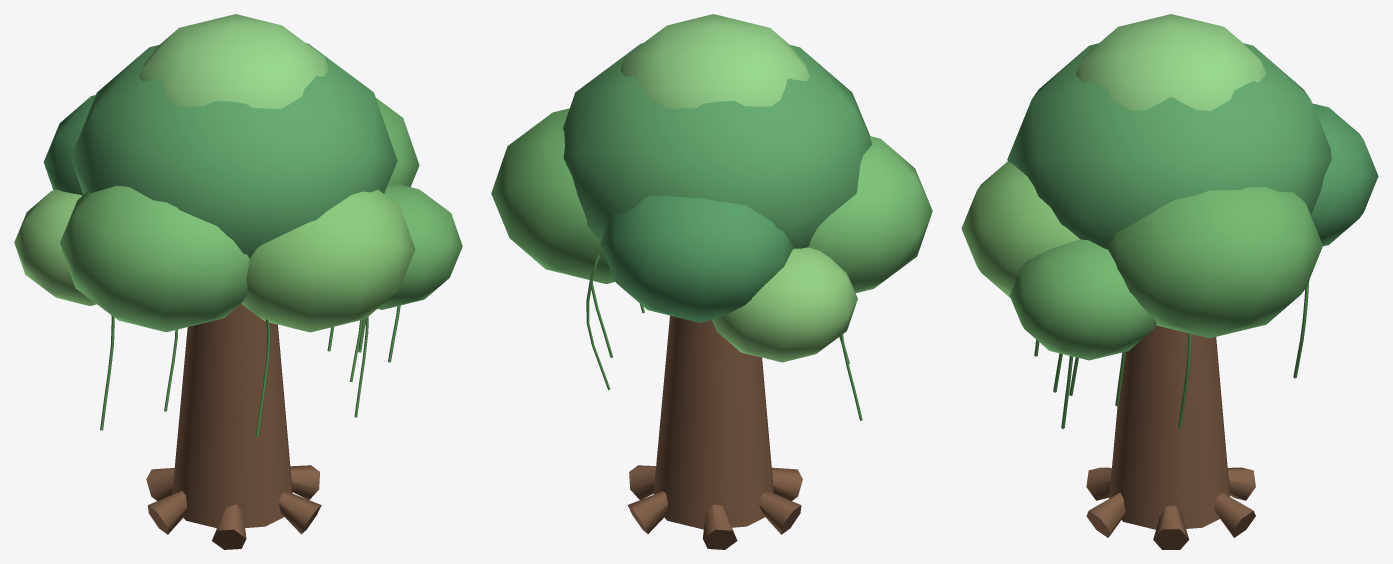
File: ancient-tree.glb
3 views of the same model, side by side, from view 1: azimuth 30°, elevation 25°; view 2: azimuth 150°, elevation 25°; view 3: azimuth 270°, elevation 25° (orthographic).
Parts seen in each view (by area): view 1: Canopy0, AncientTrunk, Canopy1, Canopy3, Canopy7, Canopy6, Canopy5, Canopy4, Canopy2, AncientRoot2, AncientRoot3, AncientRoot1 (+2 smaller); view 2: Canopy0, AncientTrunk, Canopy4, Canopy7, Canopy2, Canopy1, Canopy5, AncientRoot4, AncientRoot3, AncientRoot5, AncientRoot2, AncientRoot0; view 3: Canopy0, Canopy2, AncientTrunk, Canopy7, Canopy6, Canopy3, Canopy4, AncientRoot0, AncientRoot5, AncientRoot1, AncientRoot4, AncientRoot2.
Boxes of the visible parts, x1,y1,x2,y2 form: Canopy0: (70,43,397,258); AncientTrunk: (172,304,292,528); Canopy1: (60,185,249,332); Canopy3: (241,189,415,332); Canopy7: (139,14,328,108); Canopy6: (377,184,462,309); Canopy5: (14,189,96,305); Canopy4: (43,95,95,195); Canopy2: (376,98,419,186); AncientRoot2: (212,504,246,549); AncientRoot3: (148,491,187,534); AncientRoot1: (278,492,321,534); Canopy0: (563,43,872,248); AncientTrunk: (653,315,773,529); Canopy4: (600,195,793,322); Canopy7: (620,14,810,108); Canopy2: (491,108,615,283); Canopy1: (808,136,932,292); Canopy5: (712,247,857,362); AncientRoot4: (702,505,737,549); AncientRoot3: (759,491,801,534); AncientRoot5: (627,491,667,533); AncientRoot2: (771,467,802,500); AncientRoot0: (629,465,655,499); Canopy0: (1007,43,1331,249); Canopy2: (1108,187,1322,338); AncientTrunk: (1109,325,1229,529); Canopy7: (1076,14,1266,110); Canopy6: (1009,239,1156,360); Canopy3: (961,161,1080,298); Canopy4: (1311,103,1378,246); AncientRoot0: (1153,505,1189,549); AncientRoot5: (1214,493,1255,537); AncientRoot1: (1086,492,1125,537); AncientRoot4: (1227,467,1255,500); AncientRoot2: (1086,467,1111,500).
Size of the model in its own units: 17.8 by 22.49 by 17.3.
